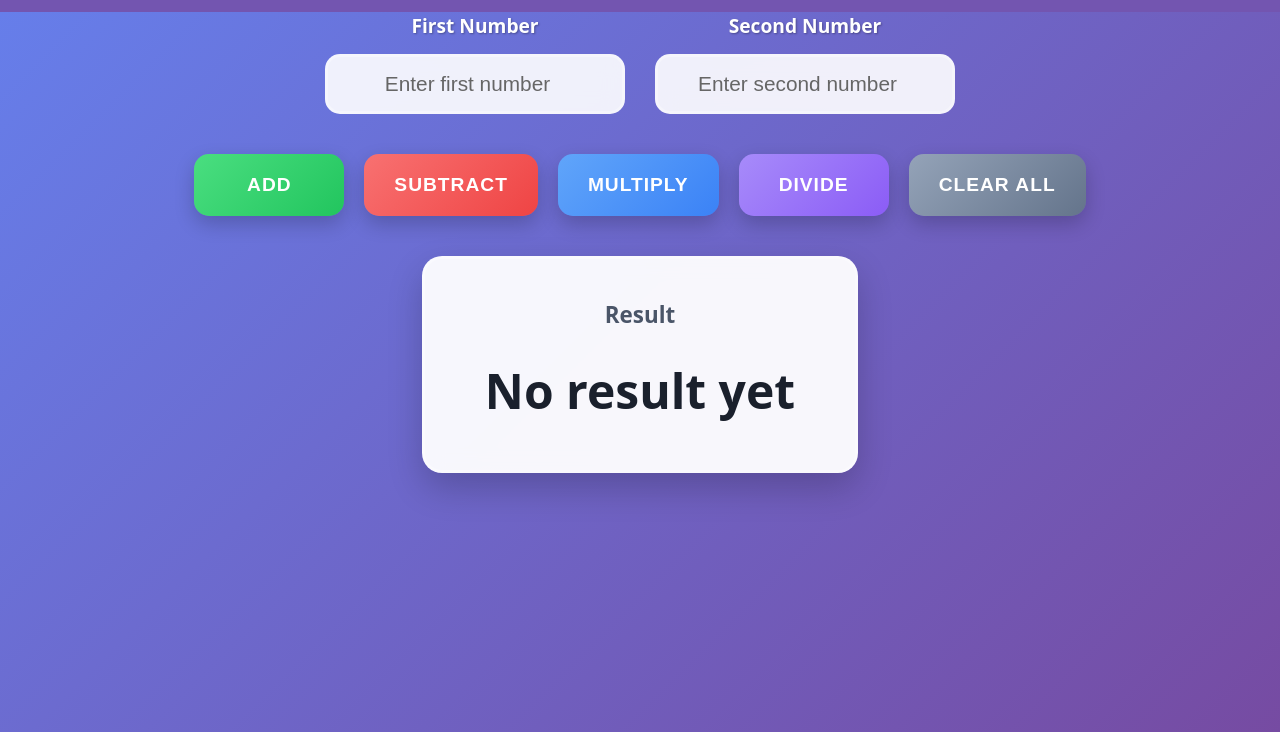
Test case: performs subtraction correctly
Step 1. Type "10" into the number field with placeholder "Enter first number" → (475, 84), box [325,54,625,114]
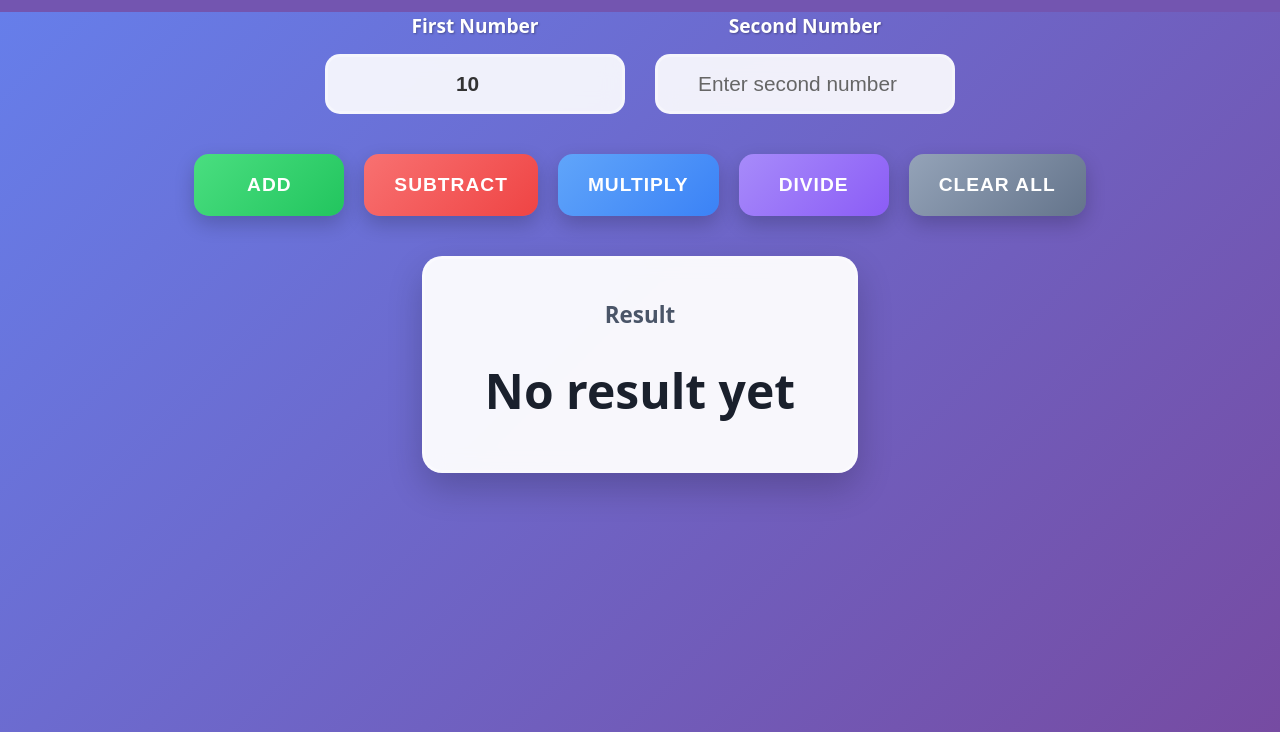
Step 2. Type "4" into the number field with placeholder "Enter second number" → (805, 84), box [655,54,955,114]
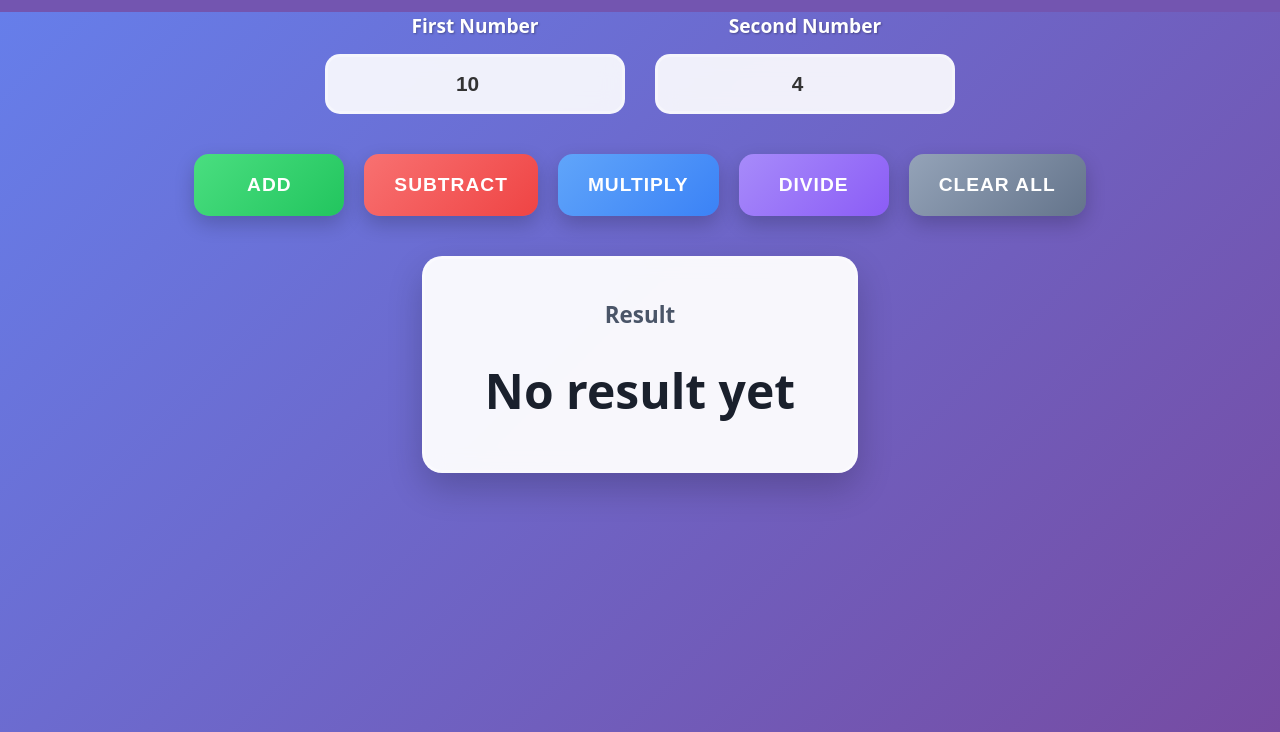
Step 3. Click the button "Subtract" → (451, 185), box [364,154,538,216]
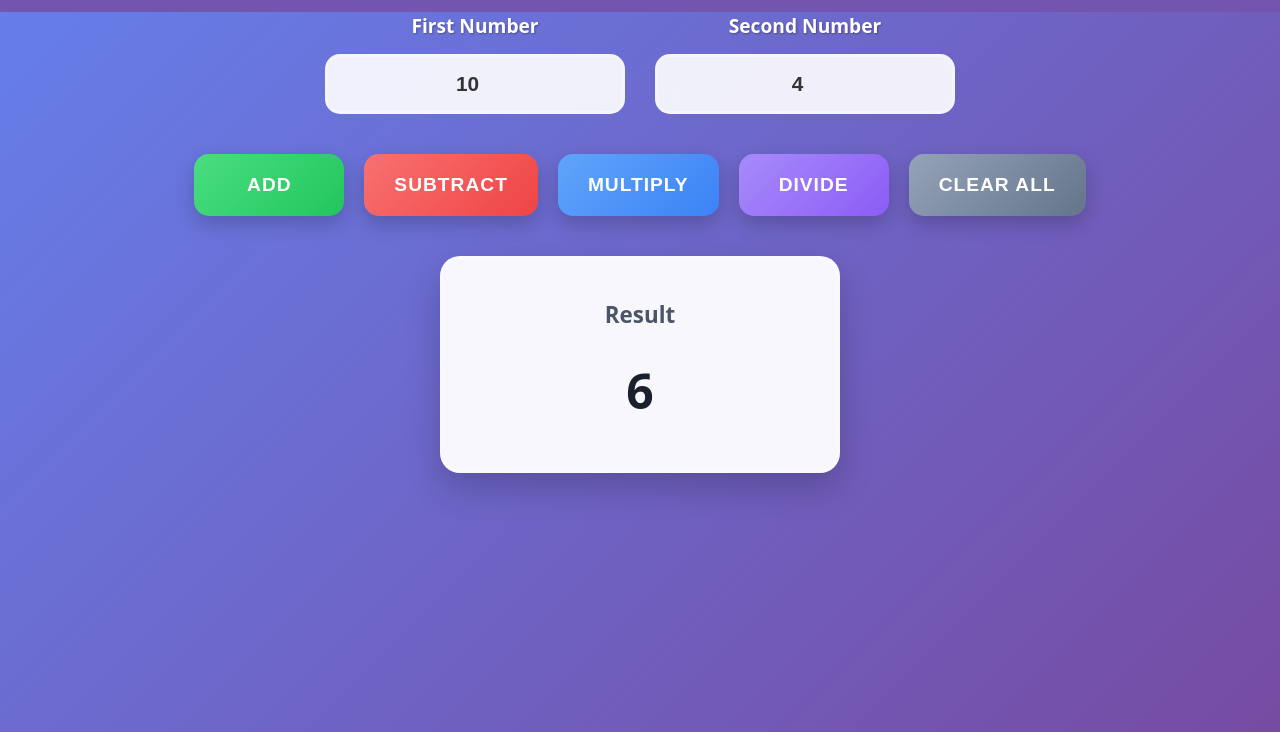
Expected: the text "6" is shown, [626,358,654,422]
